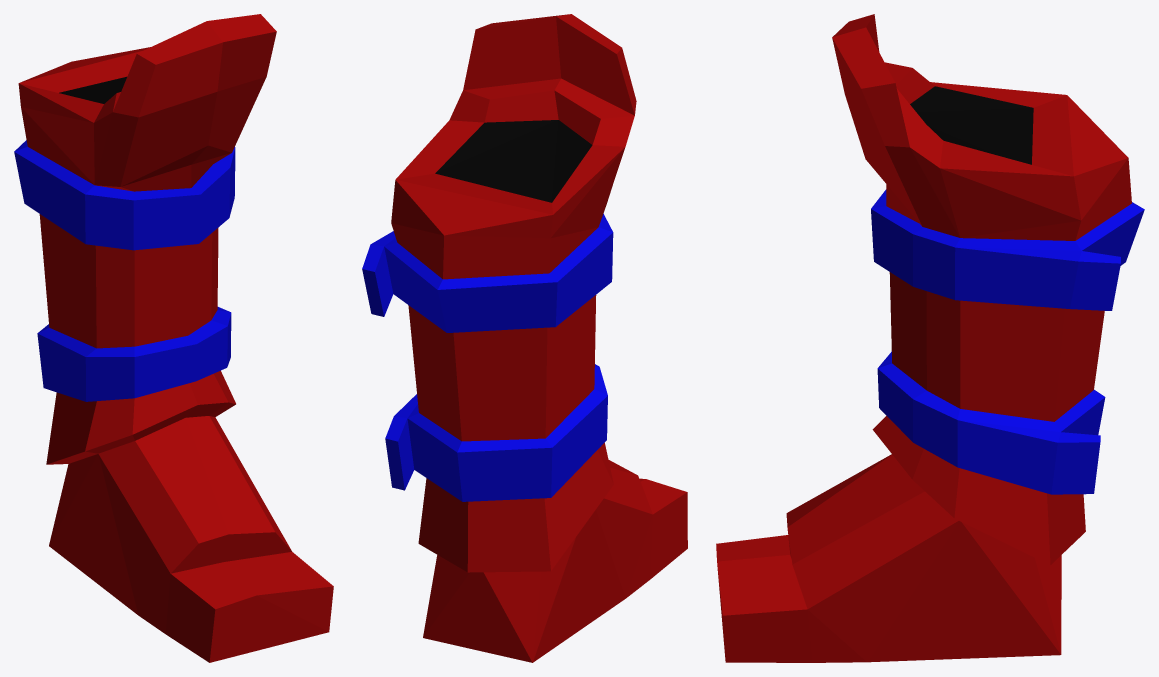
File: Chr_LegRight_Male_Static_13.fbx
3 views of the same model, side by side, from view 1: azimuth 30°, elevation 25°; view 2: azimuth 150°, elevation 25°; view 3: azimuth 270°, elevation 25° (orthographic). The views are drawn at different scales.
Parts seen in each view (by area): view 1: Chr_LegRight_Male_13; view 2: Chr_LegRight_Male_13; view 3: Chr_LegRight_Male_13.
Part boxes in pixels (bbox=[...]): Chr_LegRight_Male_13: bbox=[14, 14, 333, 662]; Chr_LegRight_Male_13: bbox=[362, 14, 687, 662]; Chr_LegRight_Male_13: bbox=[716, 14, 1144, 662].
Bounding box in the file's own units: 16.26 × 48.45 × 30.99.
